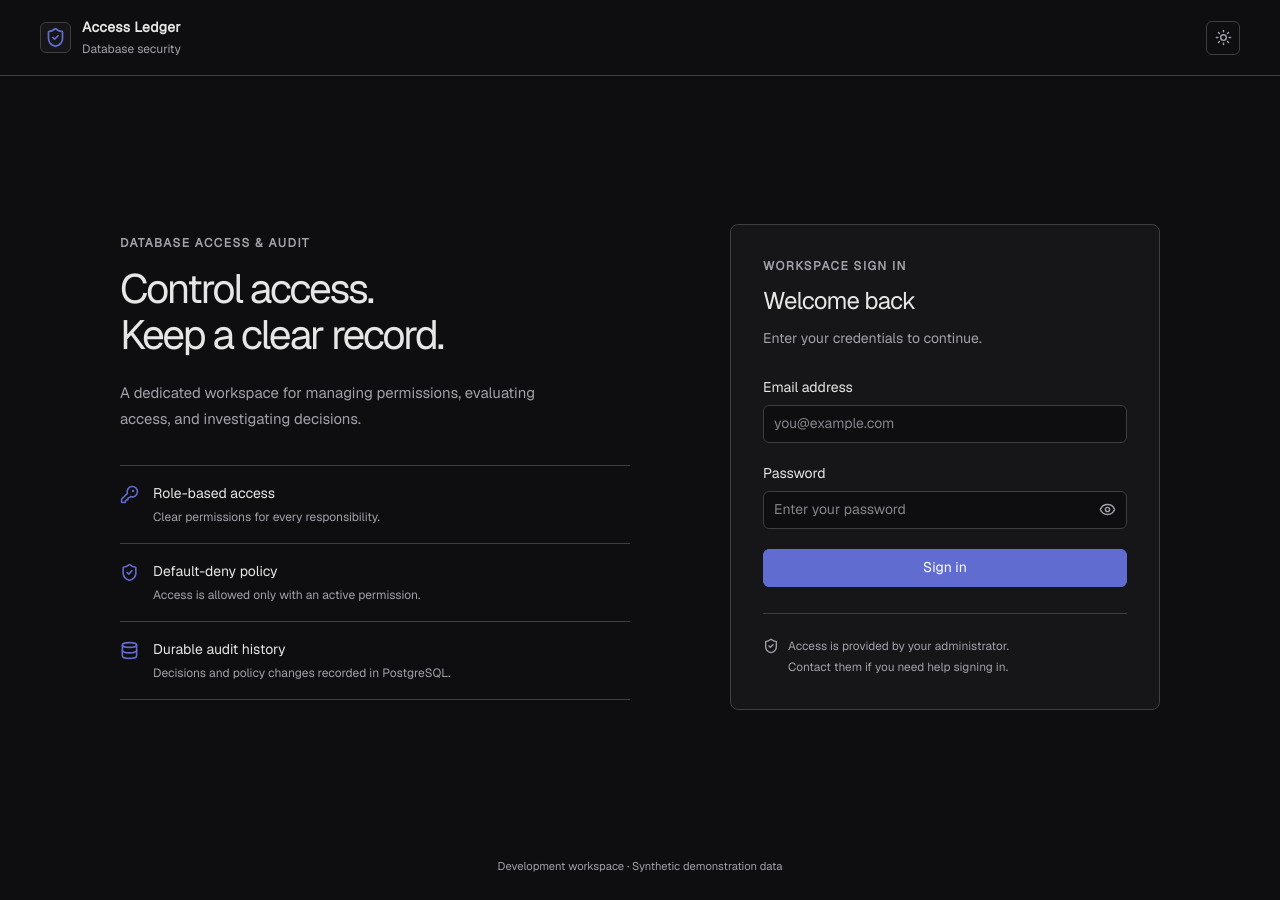
Test: authentication and protected navigation › keeps failed login on the sign-in page with the server error
The width and height of the screenshot is (1280, 900).
Type "analyst@example.com" into the field labelled "Email address".
click(945, 424); type("analyst@example.com")  # box [763,405,1127,443]
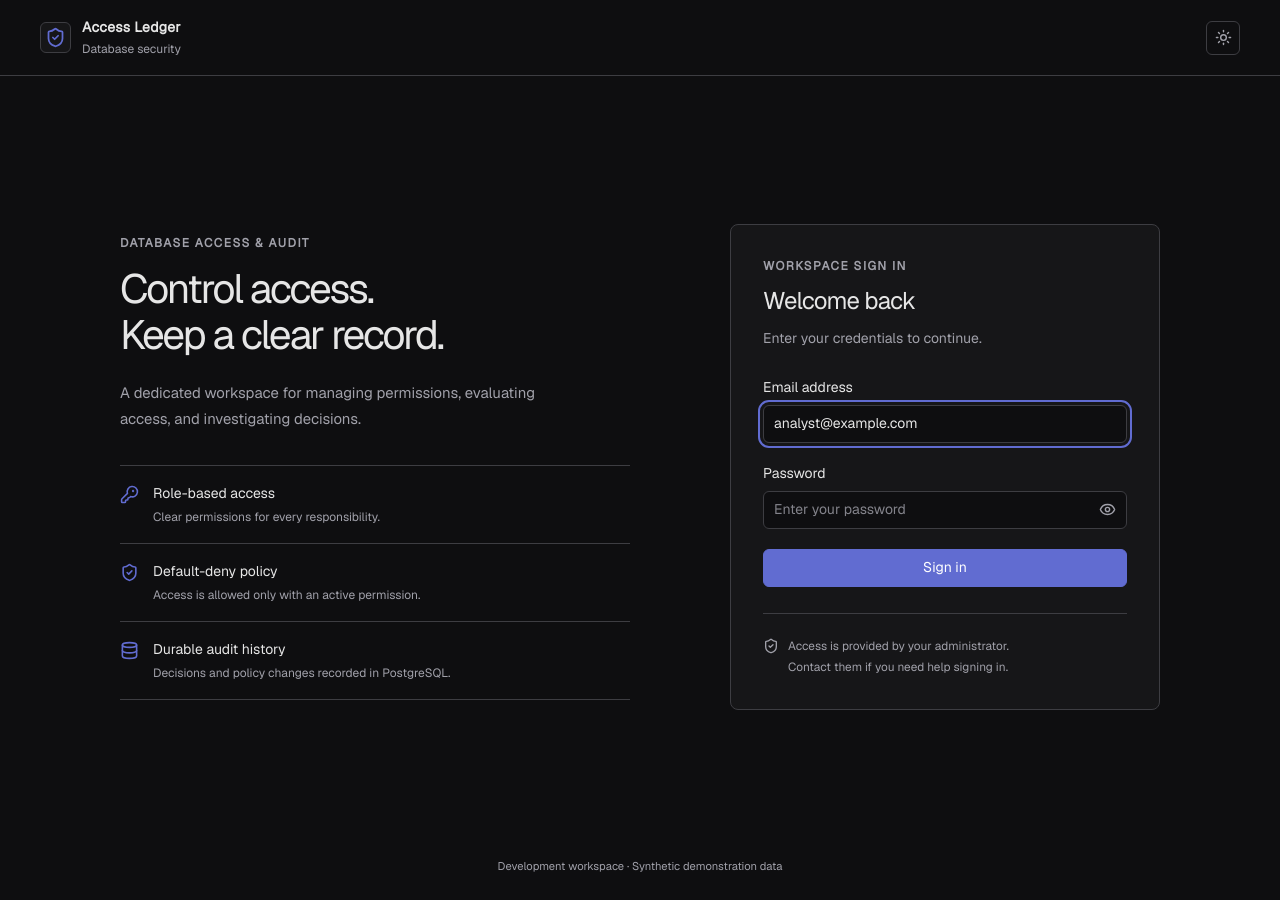
Type "wrong" into the password field labelled "Password".
click(945, 510); type("wrong")  # box [763,491,1127,529]
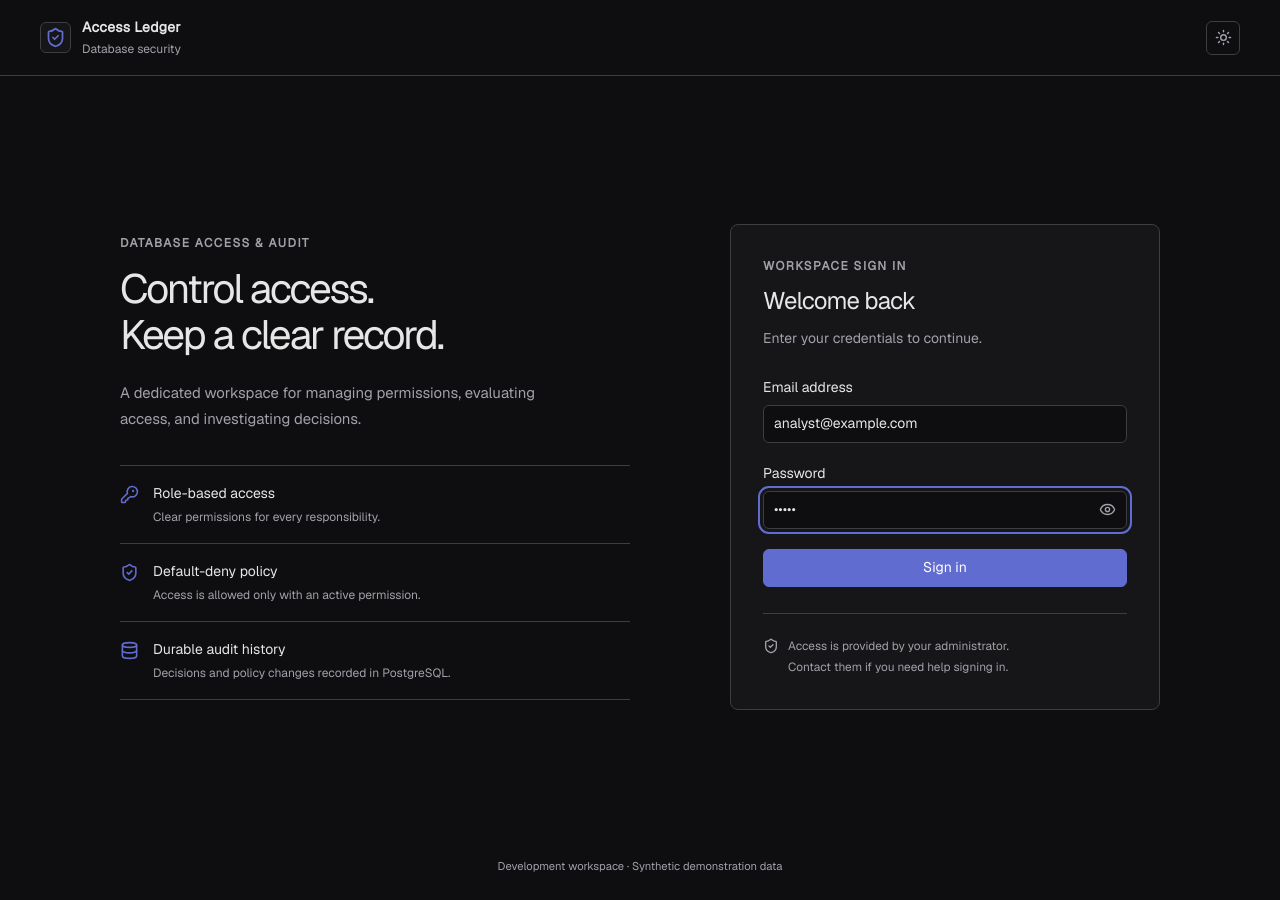
Click the button "Sign in".
click(945, 568)  # box [763,549,1127,587]
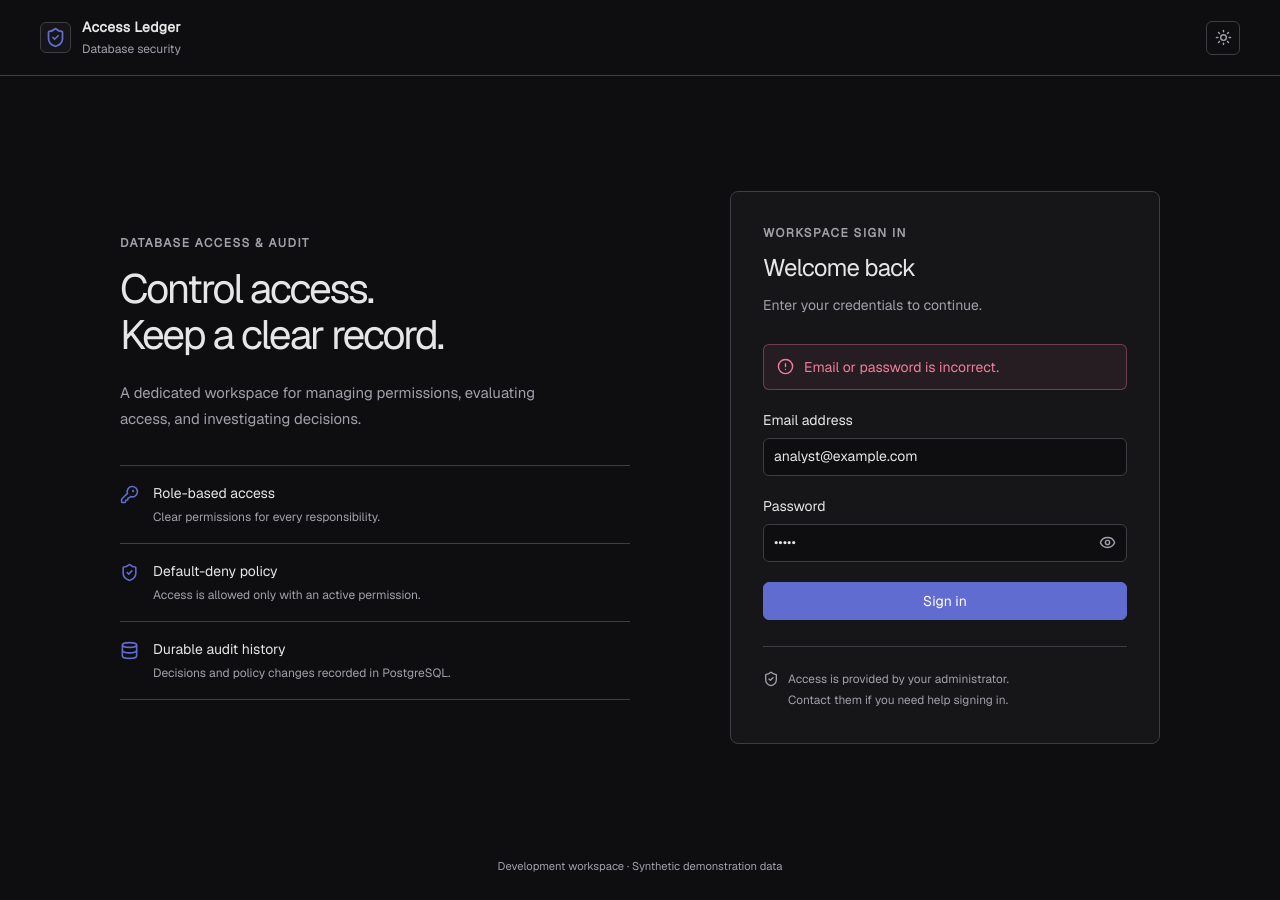
Now the message reads "Email or password is incorrect.", box [804,358,999,376]
